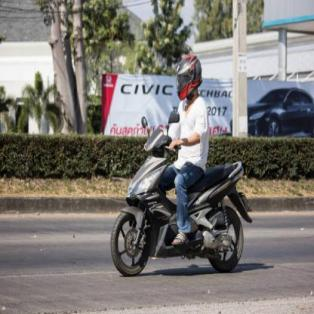Motocicleta: (108, 120, 248, 274)
